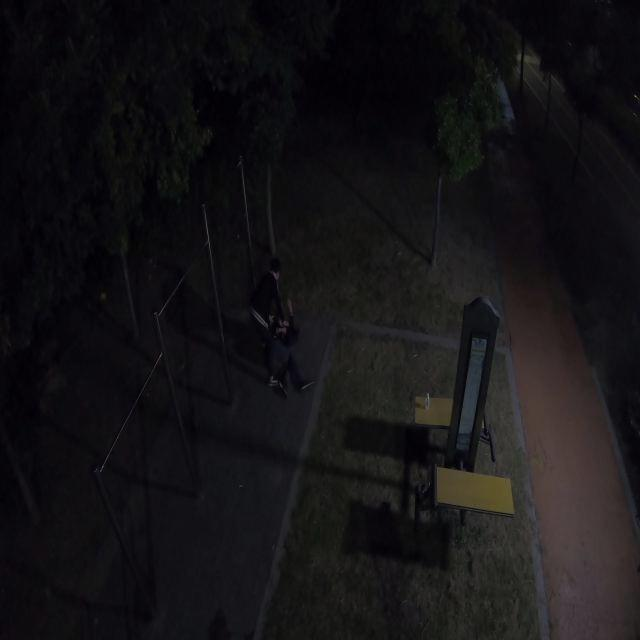fight: (242, 255, 318, 392)
